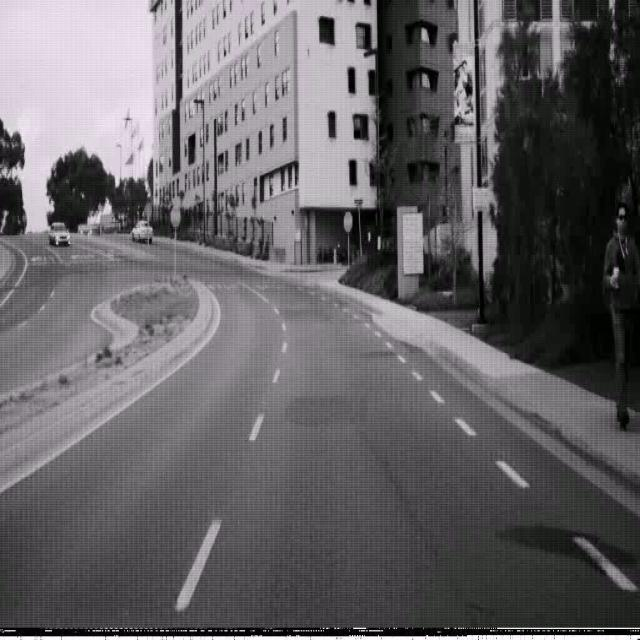stop_sign: (170, 203, 181, 227), (343, 211, 353, 232)
